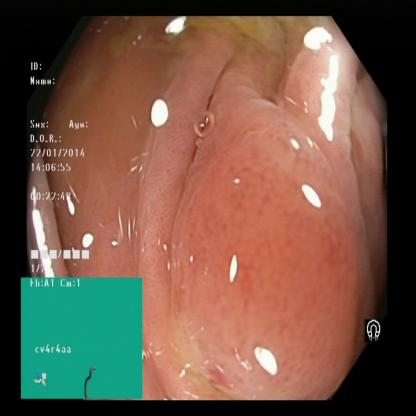Labels: (25, 54, 122, 277), (21, 274, 145, 402), (363, 310, 391, 344)
Polyps: (197, 130, 355, 386)
